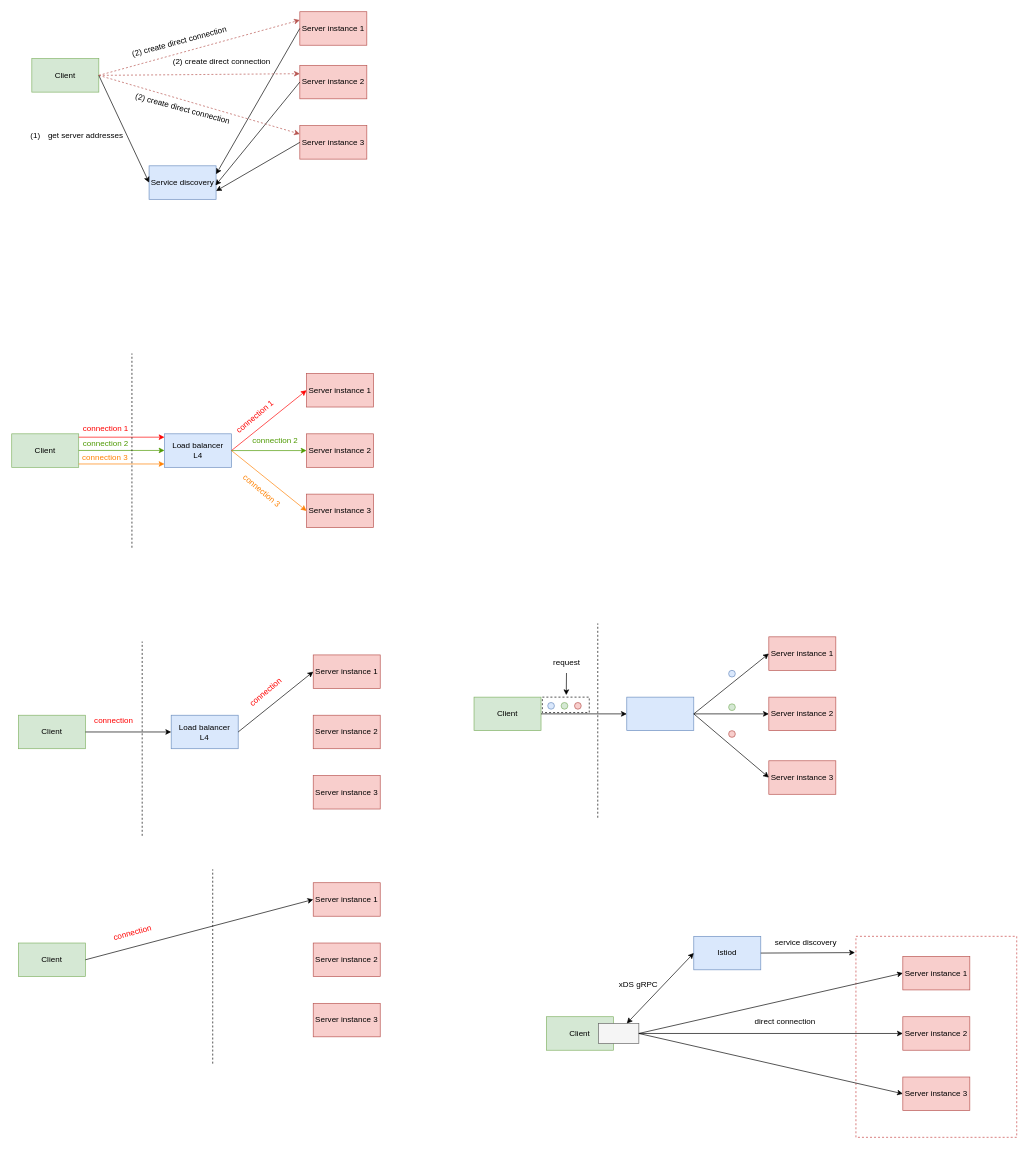
The diagram is 1028 pixels wide and 1149 high, and some of its shapes have lost their labels. The shapes that lost their labels are listed below. From the top down, each one's centre as x and y in pixels, then its label:
pixel 660 713: Load balancer L7
pixel 618 1033: Envoy
